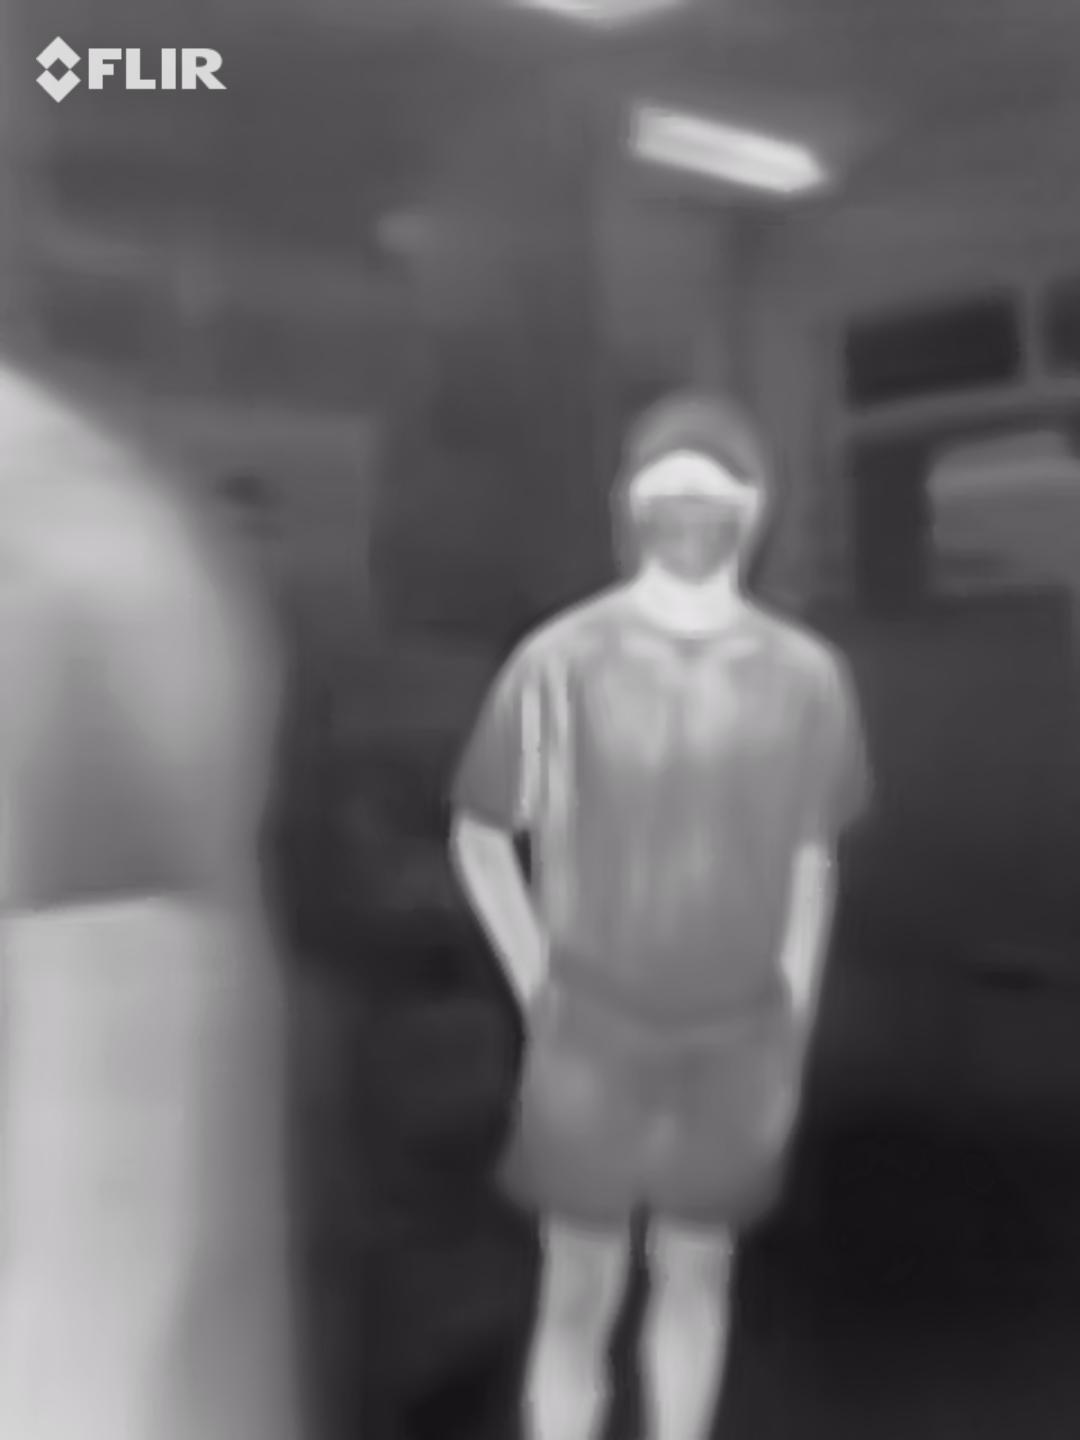head: (610, 387, 763, 598)
